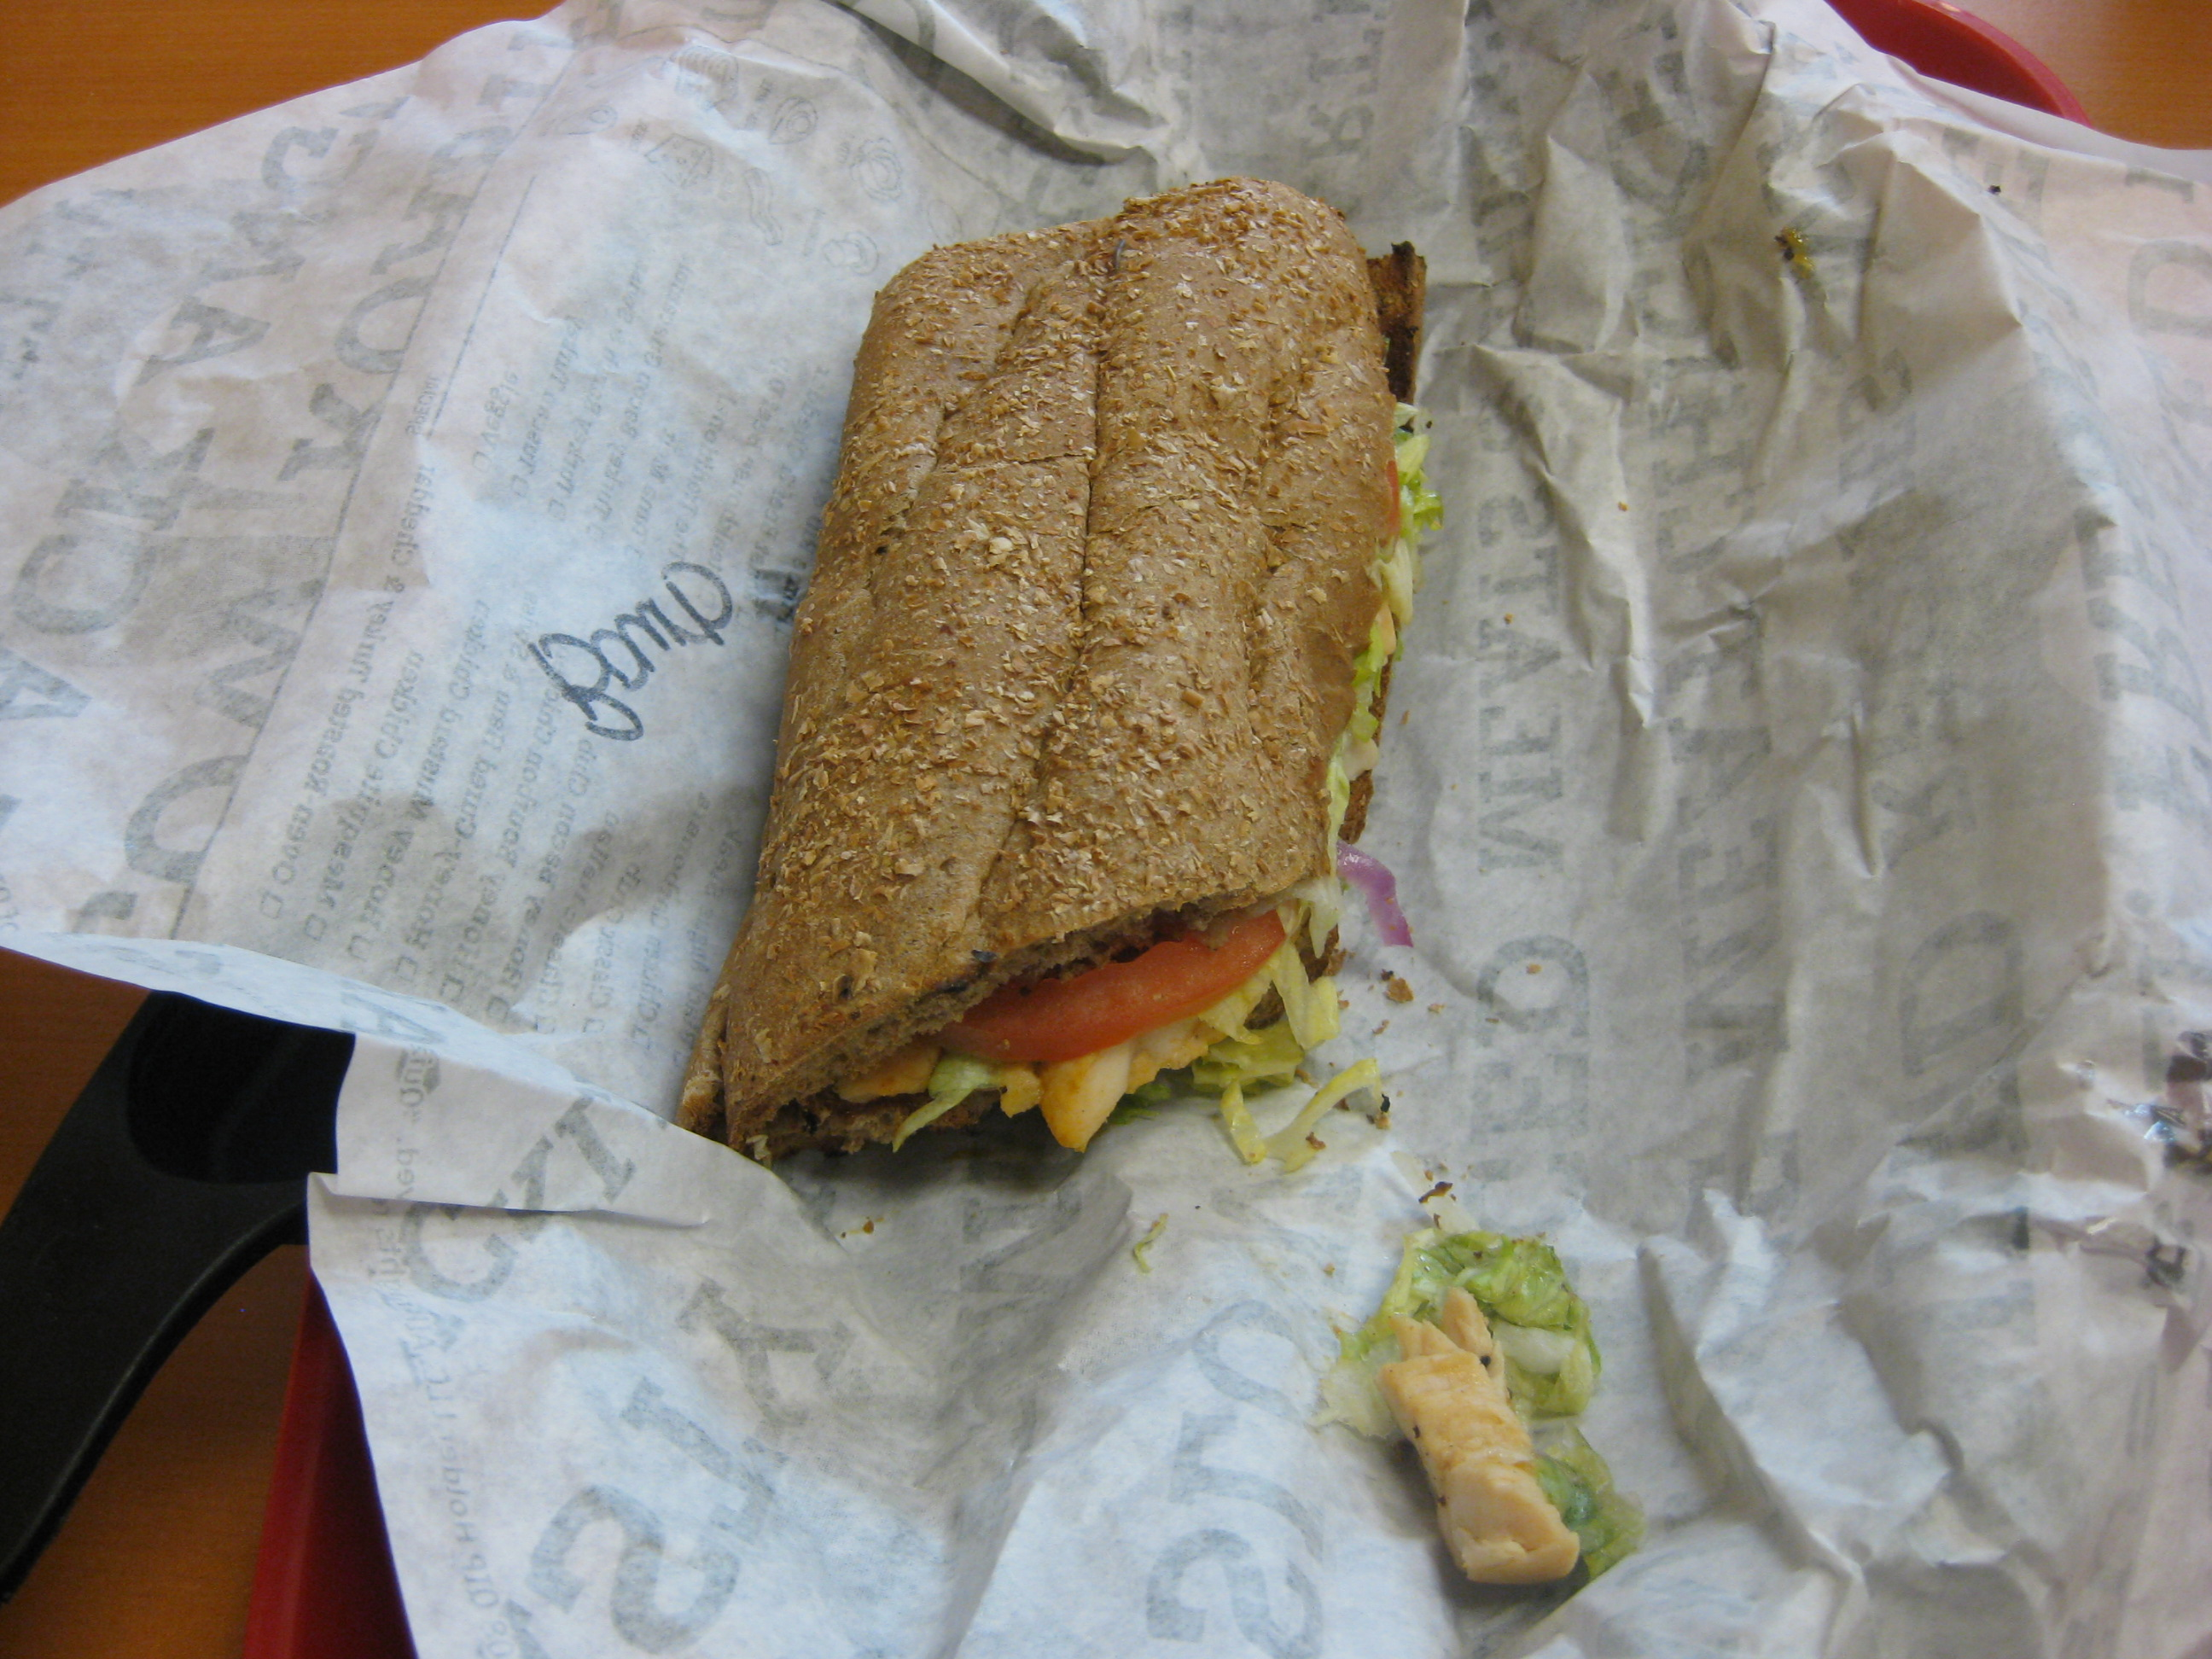sub: (682, 164, 1435, 1175)
